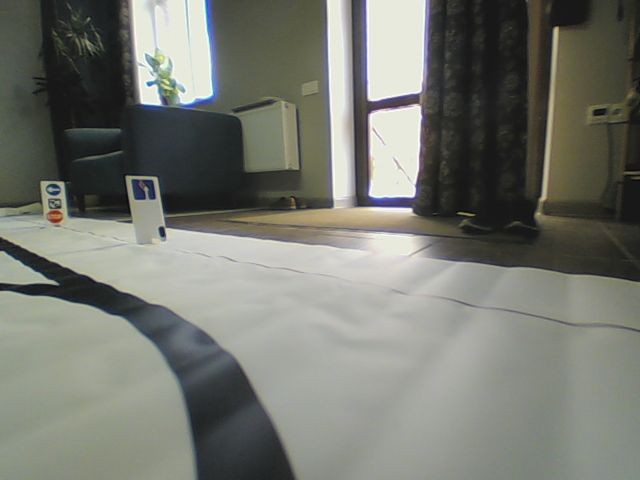priority_movement: (131, 178, 156, 201)
